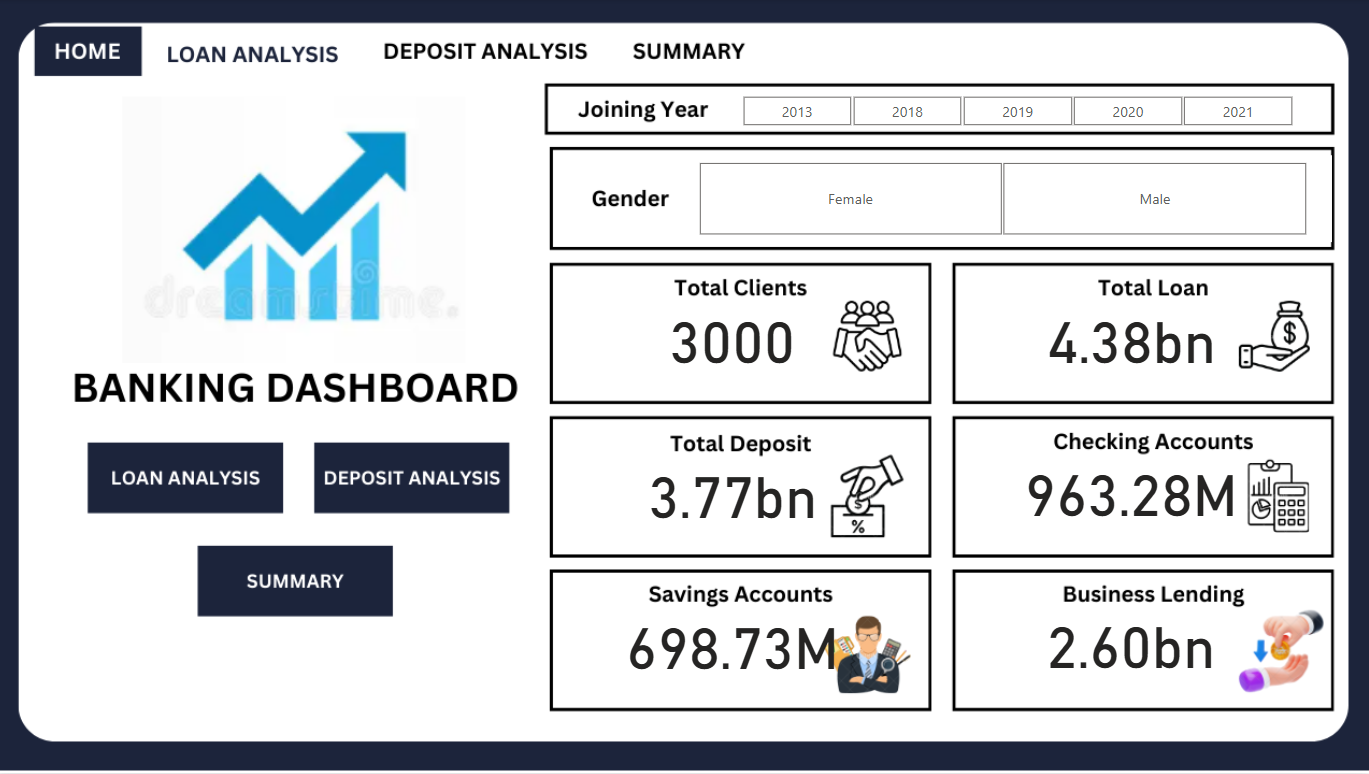

The dashboard page shown, as its layout file describes it:
{"tool":"powerbi","page":{"name":"Home 2","canvas":[1280,720],"ordinal":1},"visuals":[{"type":"card","fields":{"Values":["banking_case customer.Name"]},"box":[580.5,275.2,213.6,74.7],"z":0},{"type":"slicer","fields":{"Values":["banking_case customer.GenderId"]},"box":[629.8,145.2,614.3,81],"z":1000},{"type":"card","fields":{"Values":["banking_case customer.Total Loan"]},"box":[951.4,275.2,214.9,74.7],"z":2000},{"type":"card","fields":{"Values":["banking_case customer.Total Deposit"]},"box":[581.8,419.3,212.3,74.7],"z":3000},{"type":"slicer","fields":{"Values":["banking_case customer.Year of Joining"]},"box":[671.4,83.3,560.7,34.5],"z":4000},{"type":"card","fields":{"Values":["banking_case customer.Saving Accounts"]},"box":[580.5,560.9,213.6,74.7],"z":5000},{"type":"card","fields":{"Values":["banking_case customer.Business Lending"]},"box":[951.4,559.5,213.6,74.7],"z":6000},{"type":"card","fields":{"Values":["banking_case customer.Checking Accounts"]},"box":[951.4,418,213.6,76],"z":7000},{"type":"actionButton","box":[191.5,514.3,175.7,55.4],"z":8000},{"type":"actionButton","box":[348.2,31.7,221.6,39.6],"z":9000},{"type":"actionButton","box":[91.8,417.8,172.5,58.6],"z":10000},{"type":"actionButton","box":[297.5,419.4,185.2,57],"z":11000}]}

Visuals, with their boxes in screenshot pixels (x1, y1, x2, y2), scaled from the page's 1280x720 canvas onto the 1369x774 screenshot:
card - banking_case customer.Name: 621:296:849:376
slicer - banking_case customer.GenderId: 674:156:1331:243
card - banking_case customer.Total Loan: 1018:296:1247:376
card - banking_case customer.Total Deposit: 622:451:849:531
slicer - banking_case customer.Year of Joining: 718:90:1318:127
card - banking_case customer.Saving Accounts: 621:603:849:683
card - banking_case customer.Business Lending: 1018:601:1246:682
card - banking_case customer.Checking Accounts: 1018:449:1246:531
actionButton: 205:553:393:612
actionButton: 372:34:609:77
actionButton: 98:449:283:512
actionButton: 318:451:516:512
